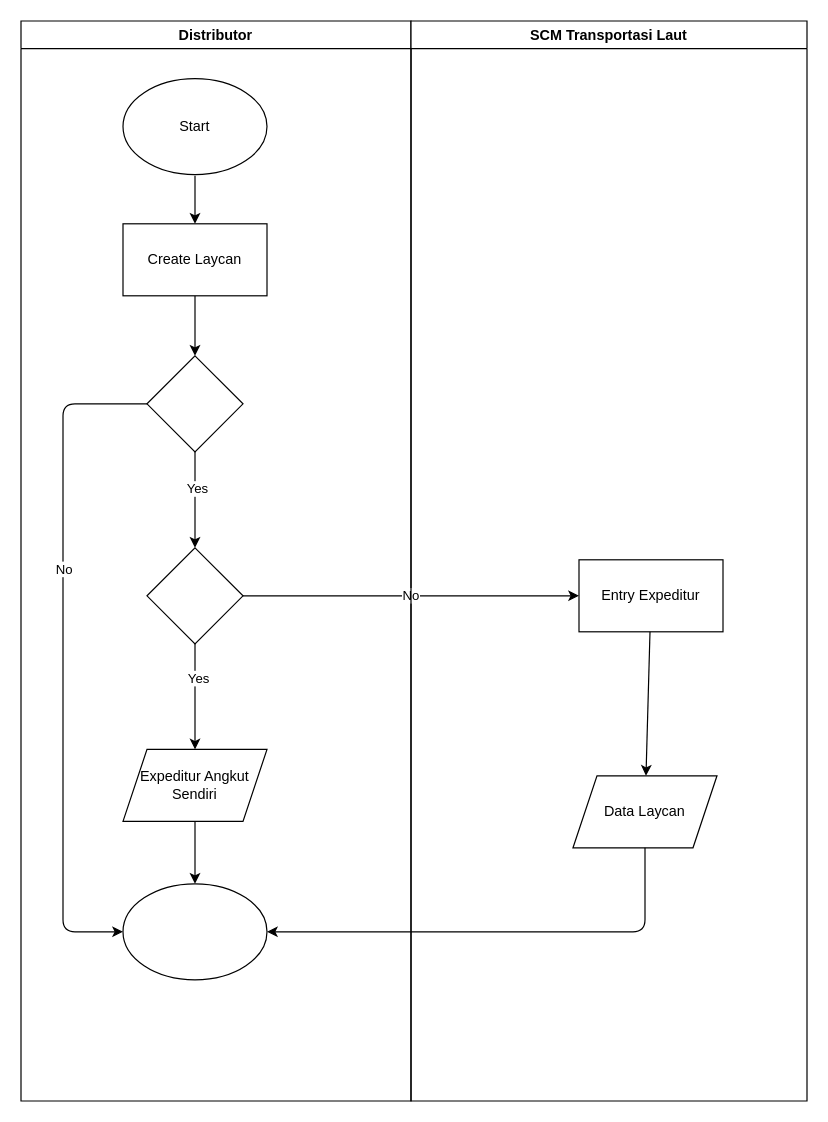
Image size: 828x1122. Some labels were removed from this diagram. The centre of each missing label's shape, as x and y in pixels:
End: the point at 194,931
Incotem = FOB: the point at 194,595
is there a SO?: the point at 194,403
